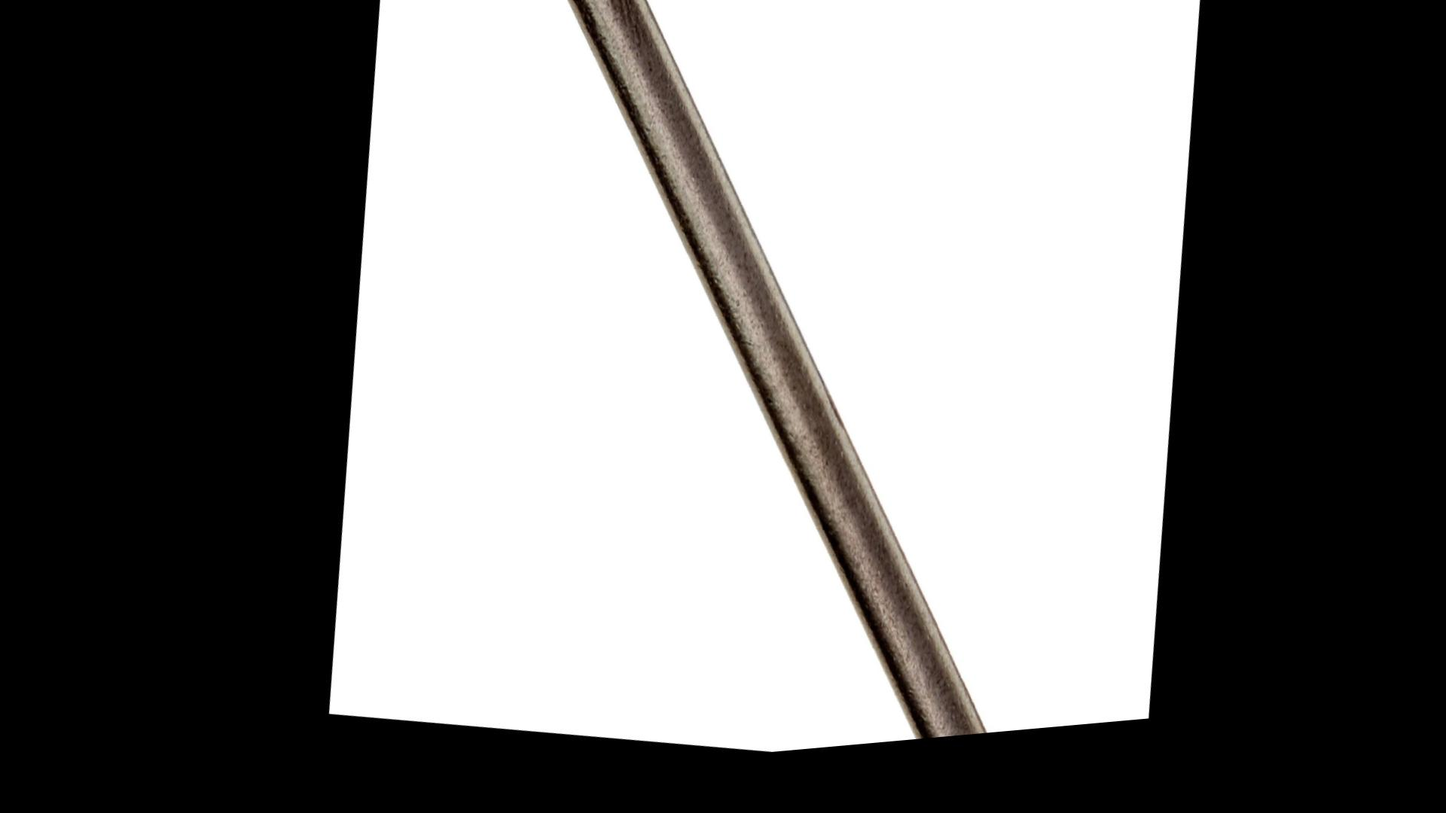nail: (253, 0, 1253, 795)
